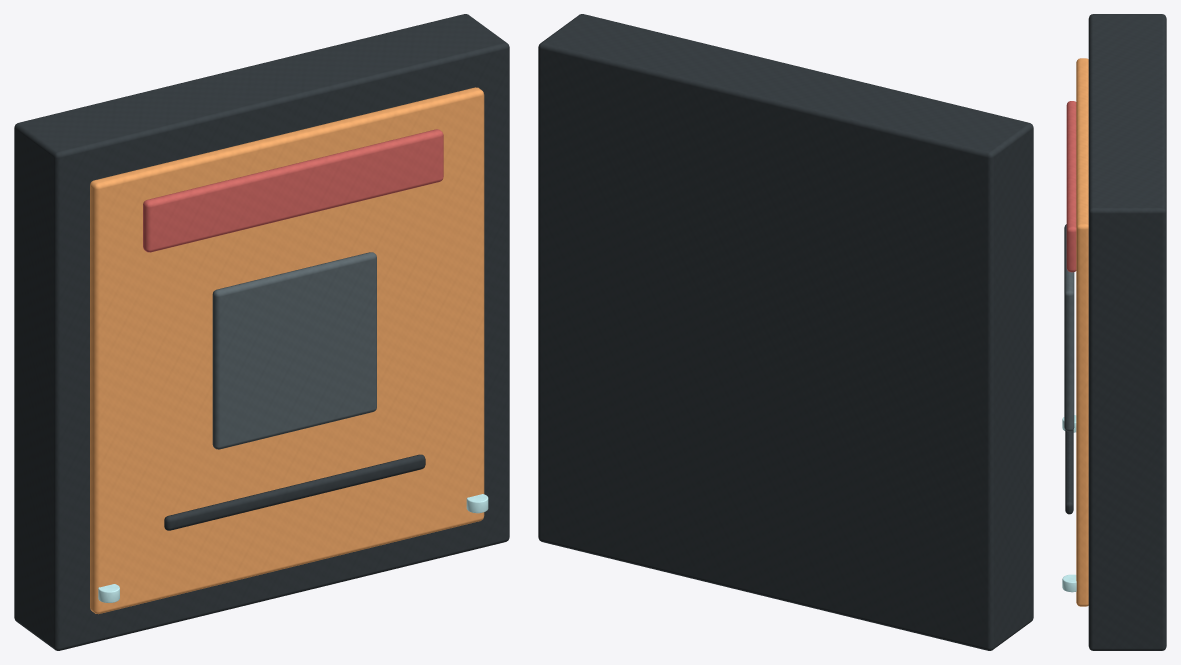
File: HazardPlacard.glb
3 renders of one model, left to right at view 1: azimuth 30°, elevation 25°; view 2: azimuth 150°, elevation 25°; view 3: azimuth 270°, elevation 25°, orthographic. The views are drawn at different scales.
Parts seen in each view (by area): view 1: HazardPlacard_Mesh; view 2: HazardPlacard_Mesh; view 3: HazardPlacard_Mesh.
Part boxes in pixels (x1=…): HazardPlacard_Mesh: x1=14, y1=14, x2=509, y2=650; HazardPlacard_Mesh: x1=538, y1=14, x2=1033, y2=650; HazardPlacard_Mesh: x1=1062, y1=14, x2=1166, y2=650.
Size of the model in its own units: 0.84 by 0.88 by 0.1875.
Materials: 5 (5 with a texture image).
